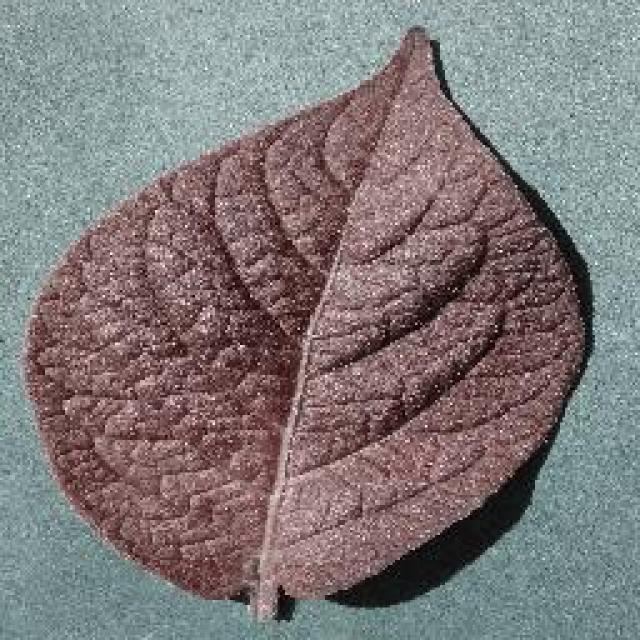Potato___healthy: (16, 18, 590, 625)
